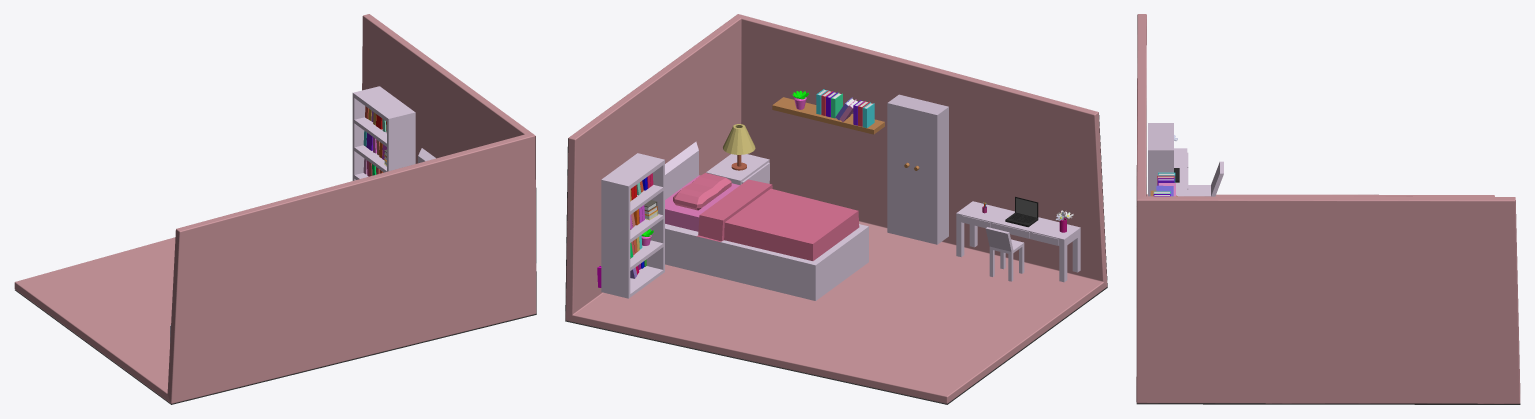
File: beatriz.fbx
3 renders of one model, left to right at view 1: azimuth 30°, elevation 25°; view 2: azimuth 150°, elevation 25°; view 3: azimuth 270°, elevation 25°, orthographic. The views are drawn at different scales.
Visible parts, largest first — view 1: estrutura.002, estante.001, pc.063; view 2: estrutura.002, cama.002, puxador1, estante.001, mesa, mesa de apoio, pc.063, Cadeira, prateleira, abaju.001, pc.061; view 3: estrutura.002, puxador1, pc.063, mesa, Cadeira.
Boxes of the visible parts, x1,y1,x2,y2 form: estrutura.002: [14, 14, 536, 403]; estante.001: [352, 86, 415, 180]; pc.063: [15, 136, 536, 404]; estrutura.002: [565, 14, 1107, 403]; cama.002: [665, 141, 868, 300]; puxador1: [887, 94, 948, 244]; estante.001: [601, 153, 664, 298]; mesa: [956, 201, 1080, 282]; mesa de apoio: [706, 154, 769, 184]; pc.063: [565, 115, 1107, 404]; Cadeira: [985, 227, 1024, 281]; prateleira: [772, 97, 884, 134]; abaju.001: [723, 124, 755, 154]; pc.061: [1005, 196, 1038, 227]; estrutura.002: [1136, 14, 1520, 403]; puxador1: [1148, 123, 1177, 196]; pc.063: [1136, 403, 1520, 404]; mesa: [1174, 148, 1188, 196]; Cadeira: [1188, 161, 1223, 196].
Size of what is drawn, in the model's own units: 455 by 216 by 364.
